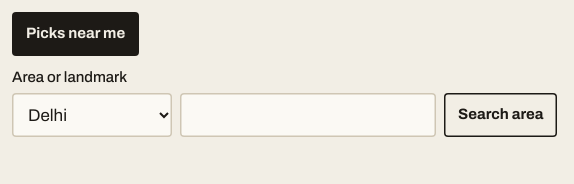
Test: HomeNearMe › explains denied permission and focuses the area field
The image size is (574, 184).
Click the button "Picks near me" at (76, 34), box [12,12,139,56]
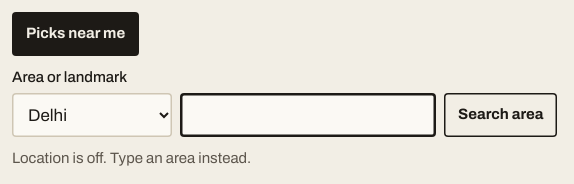
Expected: the text "Location is off. Type an area instead." is shown, [12,151,251,167]
